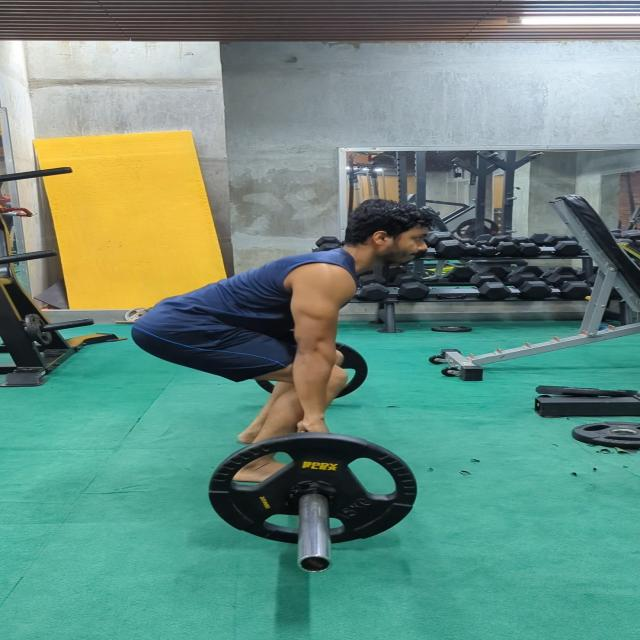Normal_Deadlifts: (126, 196, 437, 485)
